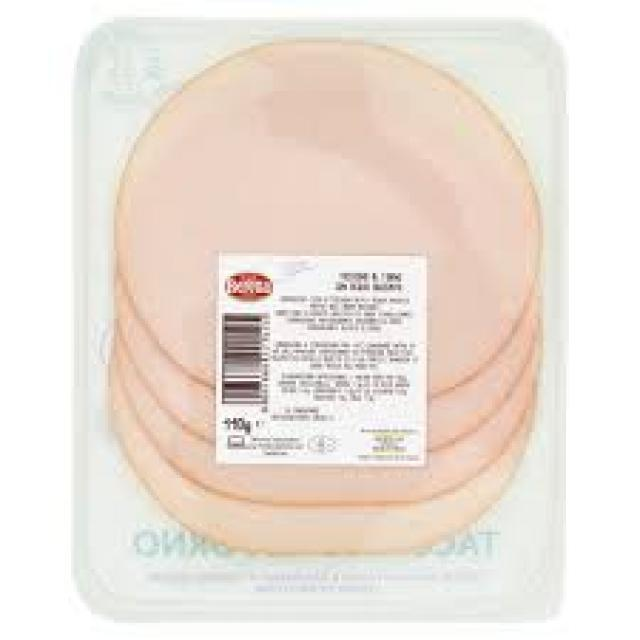Ham: (61, 12, 566, 628)
